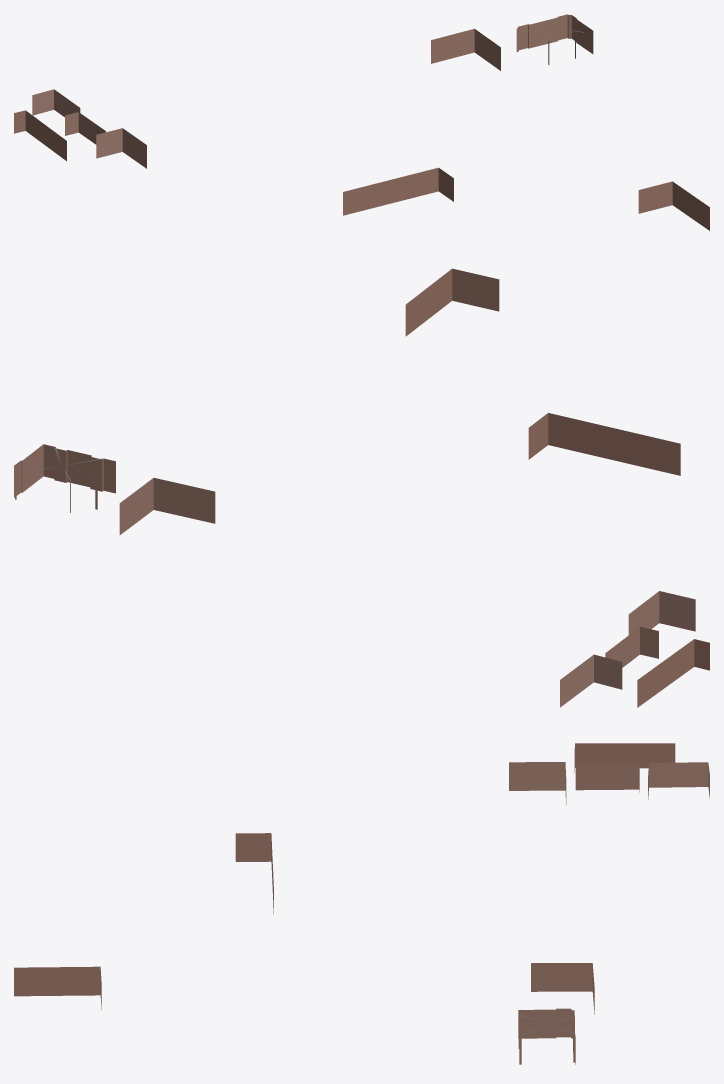
The model's file is c_1629_17837_buildings_residential.glb.
3 renders of one model, top to bottom at view 1: azimuth 30°, elevation 25°; view 2: azimuth 150°, elevation 25°; view 3: azimuth 270°, elevation 25°, orthographic. The views are drawn at different scales.
Parts seen in each view (by area): view 1: geometry_0; view 2: geometry_0; view 3: geometry_0.
Boxes of the visible parts, x1,y1,x2,y2 form: geometry_0: (14,14,709,230); geometry_0: (14,268,709,707); geometry_0: (14,743,709,1064).
Bounding box in the file's own units: 249 × 11.98 × 242.
